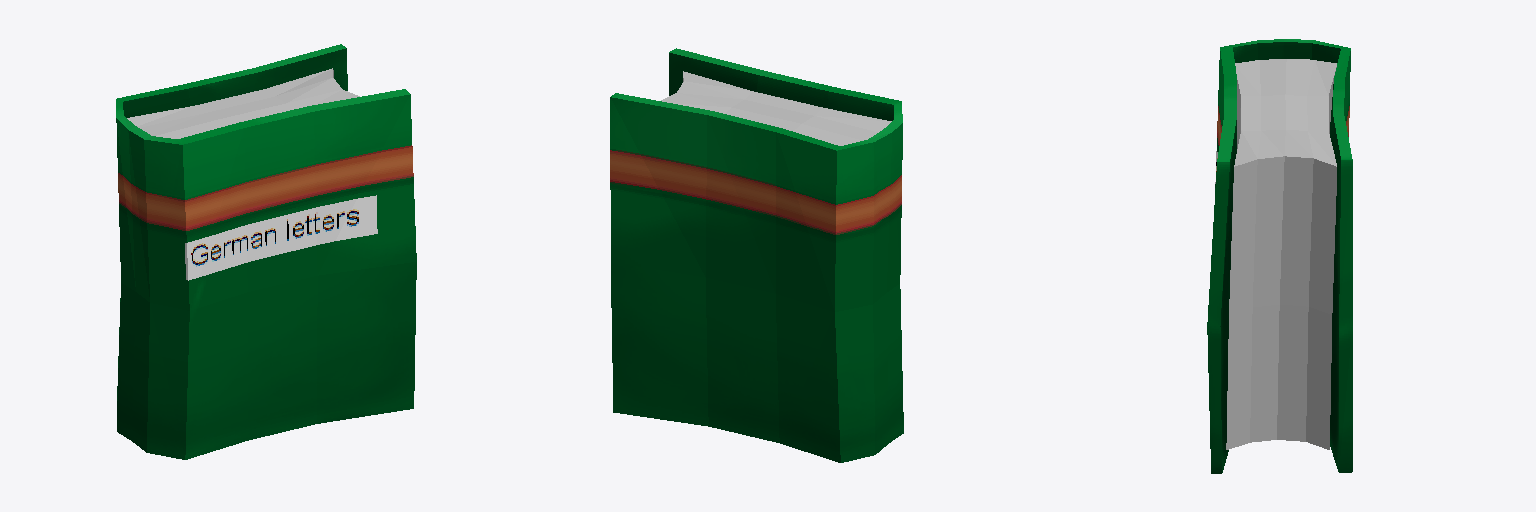
The picture shows the model from 3 angles: view 1: azimuth 30°, elevation 25°; view 2: azimuth 150°, elevation 25°; view 3: azimuth 270°, elevation 25°; orthographic projection.
Parts seen in each view (by area): view 1: Cover.001, Pages.002; view 2: Cover.001, Pages.002; view 3: Pages.002, Cover.001.
Part boxes in pixels (x1,y1,x2,y2): Cover.001: (116,44,416,459); Pages.002: (127,68,359,138); Cover.001: (610,48,903,462); Pages.002: (661,71,891,145); Pages.002: (1226,59,1336,449); Cover.001: (1207,39,1352,473).
Size of the model in its own units: 5.85 by 7.05 by 2.93.
2 materials, 1 textured.